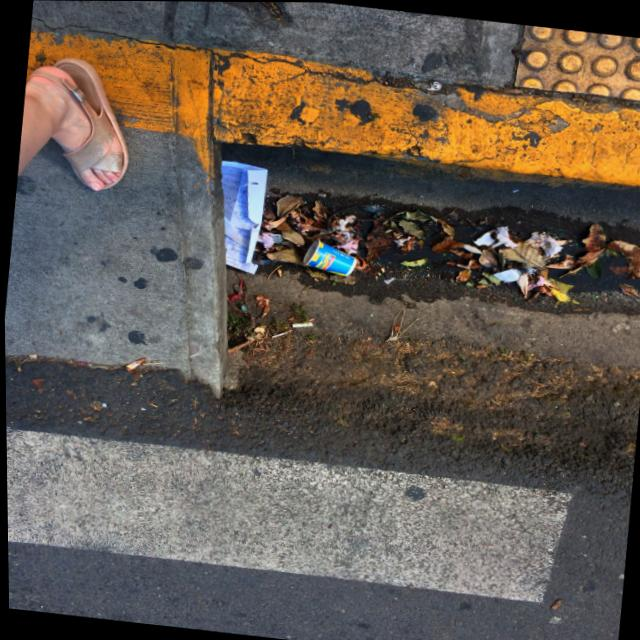Paper: (199, 152, 277, 279), (295, 234, 362, 279), (467, 224, 495, 247)
